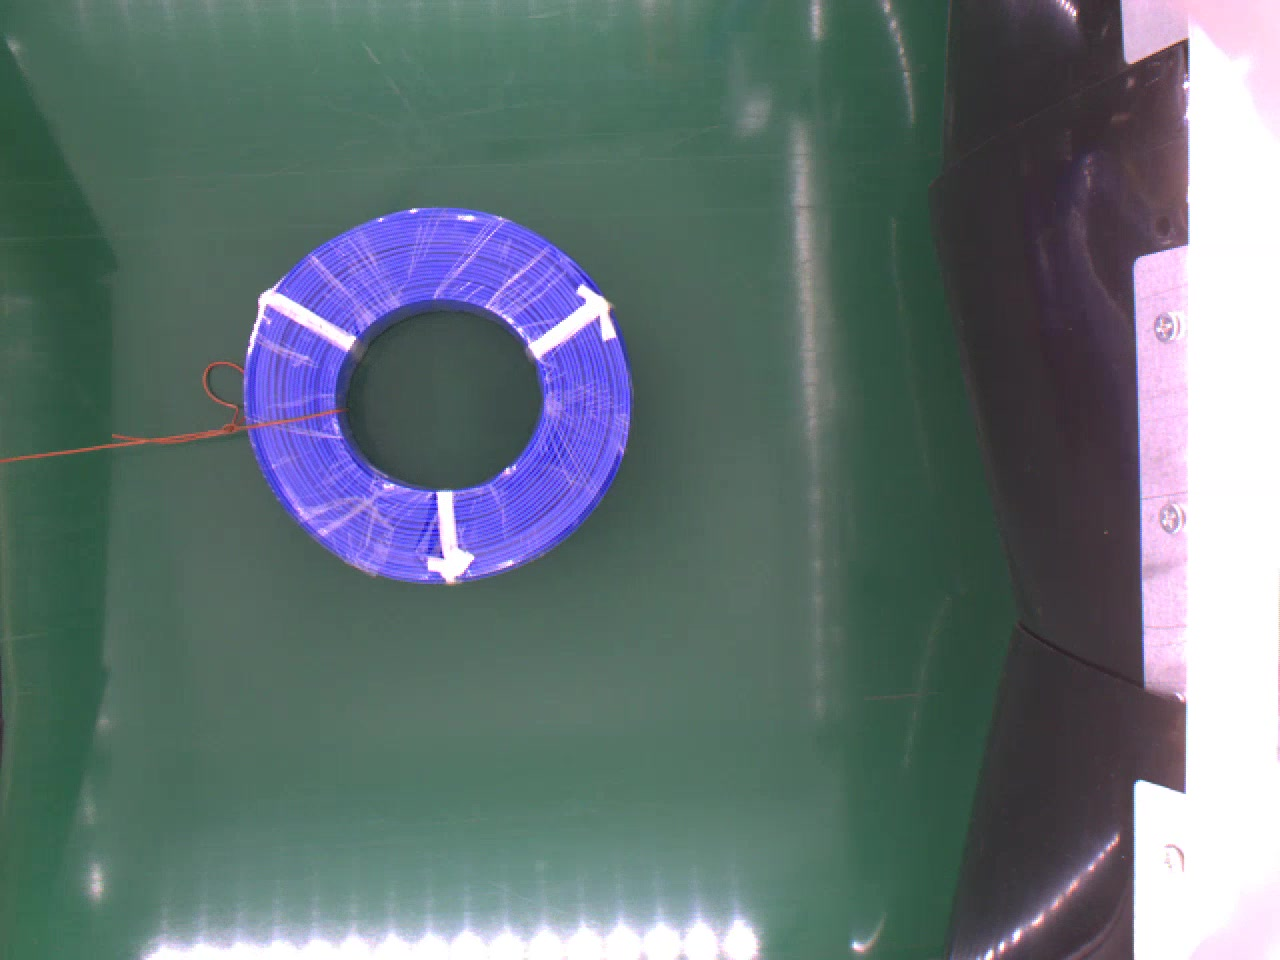blue: (236, 203, 632, 584)
